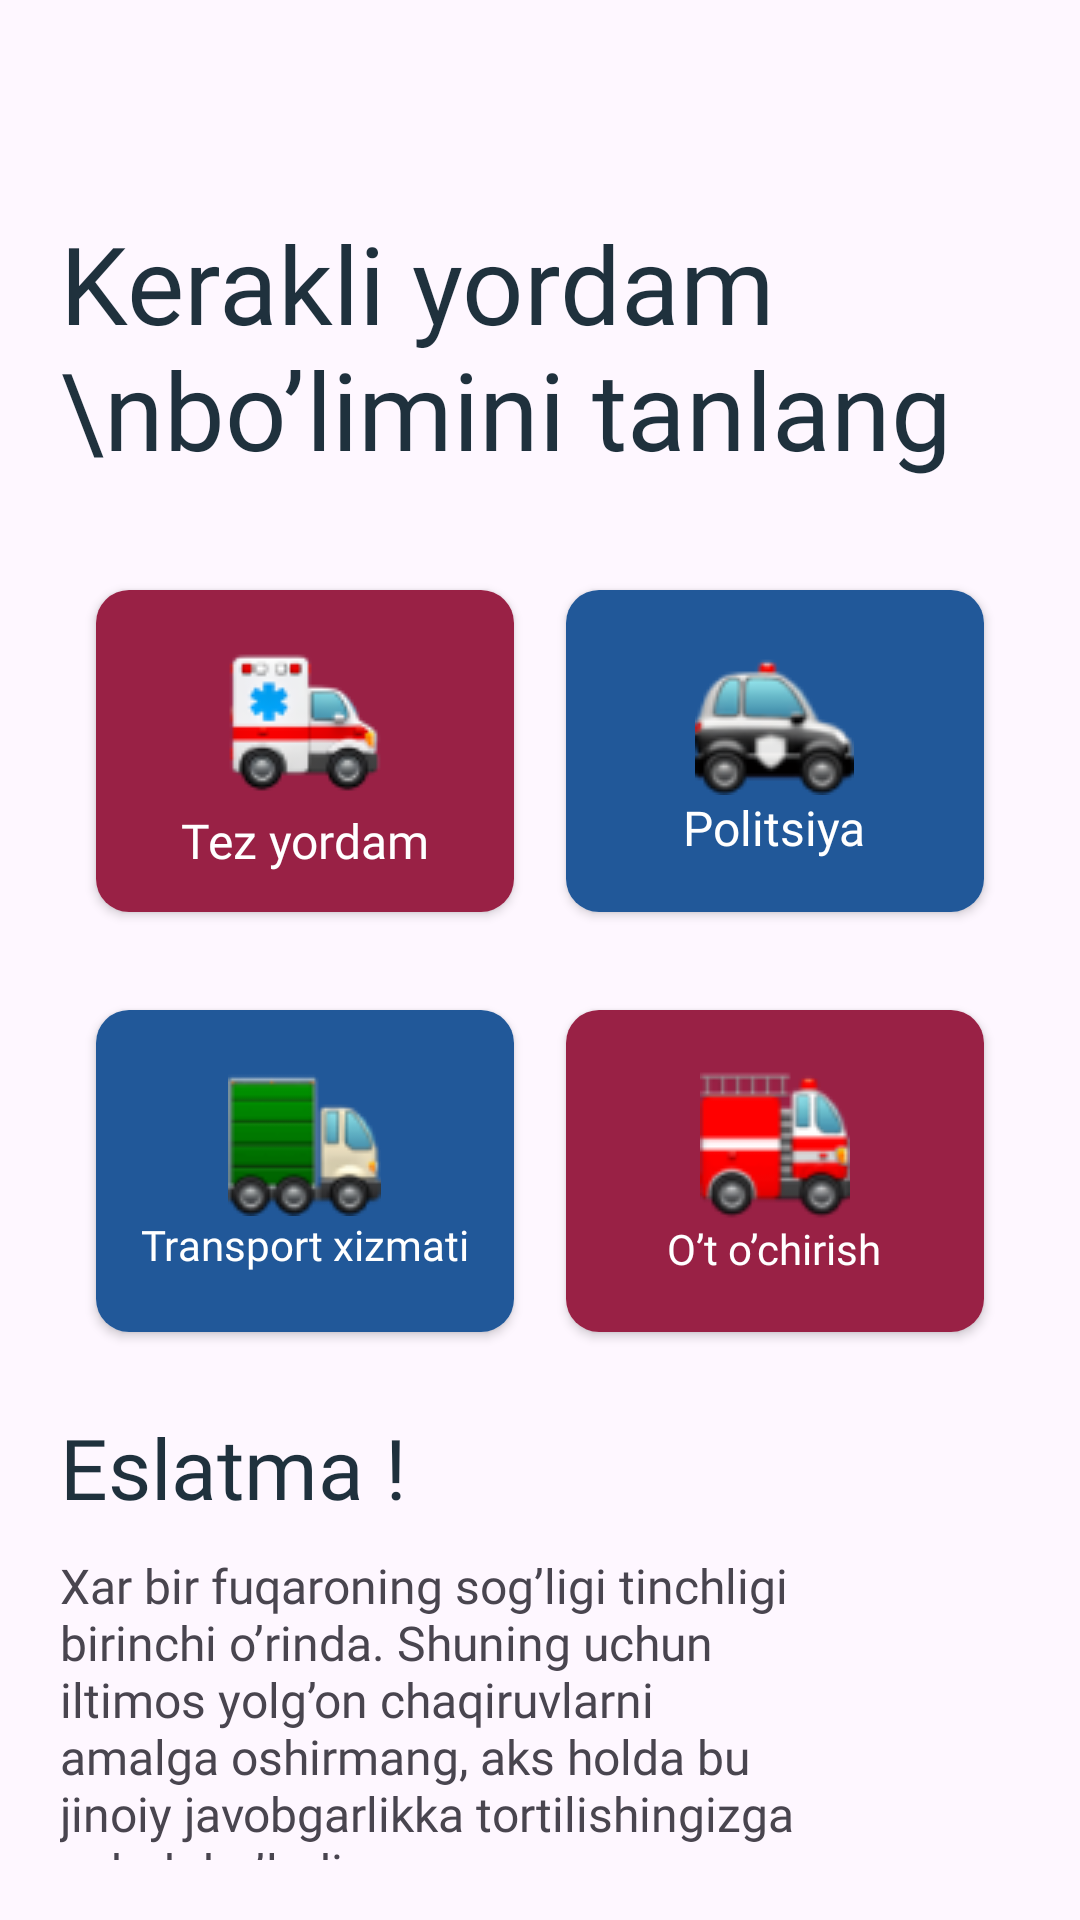

Icons on this 1080px×1920px Android screen, each with the point to tap as (x,y):
lorrycar: (304,1146)
